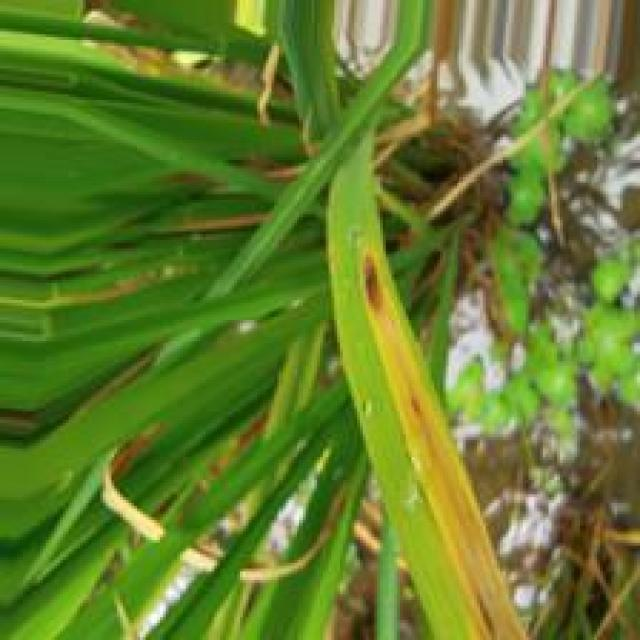Narrow_Brown_Leaf_Spot: (350, 237, 533, 640)
